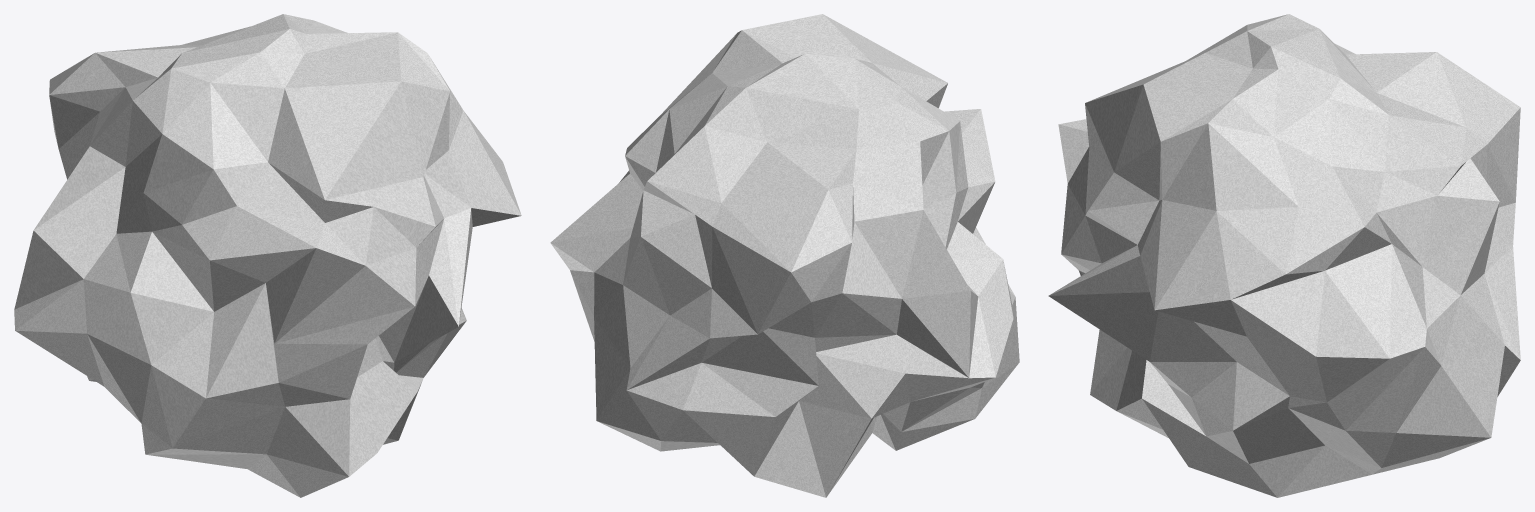
Rendered from CrumpledPaper.fbx.
The picture shows the model from 3 angles, left to right: view 1: azimuth 30°, elevation 25°; view 2: azimuth 150°, elevation 25°; view 3: azimuth 270°, elevation 25°; orthographic projection. The views are drawn at different scales.
Visible parts, largest first — view 1: Crumpled Paper.001; view 2: Crumpled Paper.001; view 3: Crumpled Paper.001.
Boxes of the visible parts, box(x1,y1,x2,y2) form: Crumpled Paper.001: box(14, 14, 521, 497); Crumpled Paper.001: box(550, 14, 1019, 497); Crumpled Paper.001: box(1048, 14, 1520, 497).
Bounding box in the file's own units: 5.72 × 5.13 × 5.24.
1 material, 1 textured.
